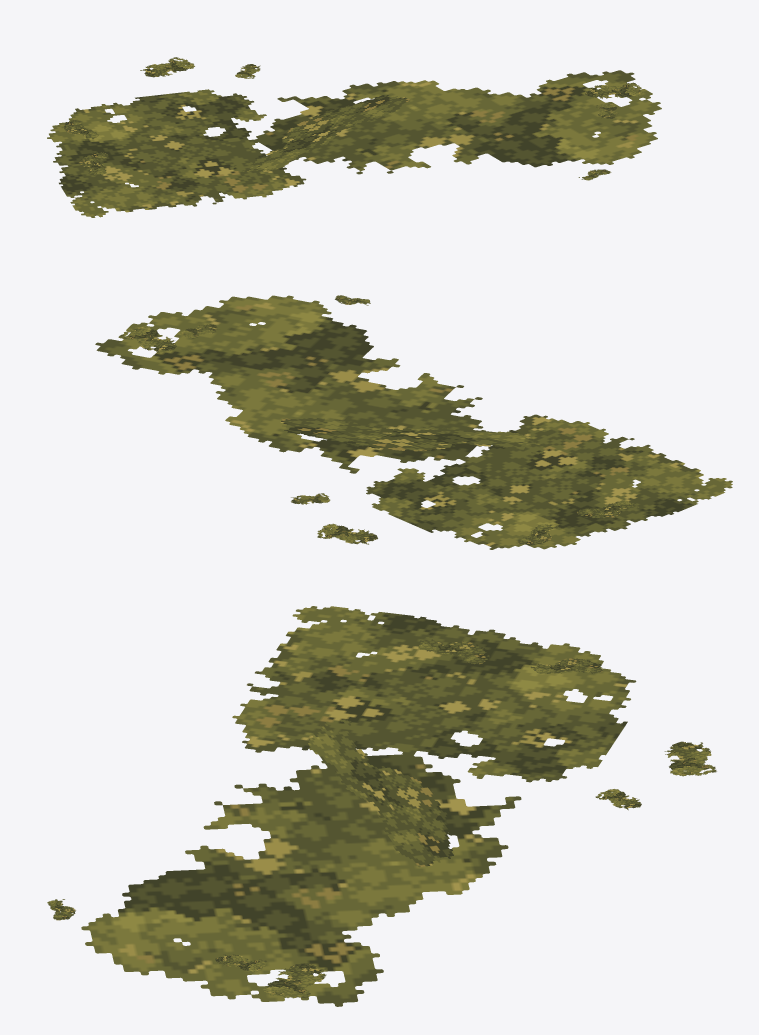
Rendered from SM_SW04_DuckweedDouble.fbx.
The picture shows the model from 3 angles, top to bottom: view 1: azimuth 30°, elevation 25°; view 2: azimuth 150°, elevation 25°; view 3: azimuth 270°, elevation 25°; orthographic projection. The views are drawn at different scales.
Parts seen in each view (by area): view 1: SW04d_Plants; view 2: SW04d_Plants; view 3: SW04d_Plants.
Part boxes in pixels (<box>): SW04d_Plants: <box>47,57,661,217</box>; SW04d_Plants: <box>95,295,732,549</box>; SW04d_Plants: <box>47,606,716,1006</box>.
Bounding box in the file's own units: 2.5 × 0.00738 × 1.85.
